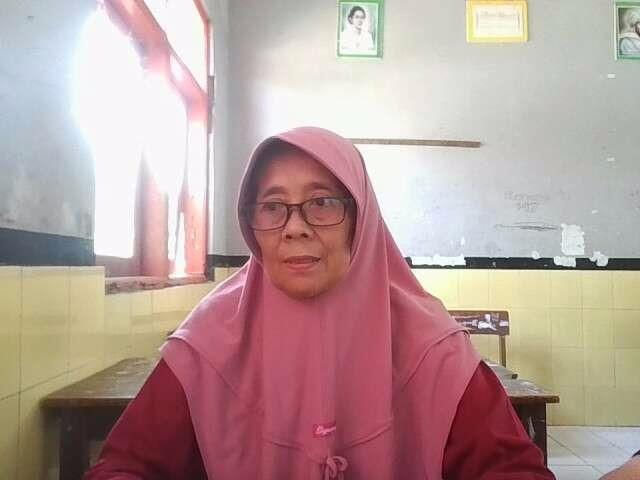cheating: (68, 110, 578, 480)
